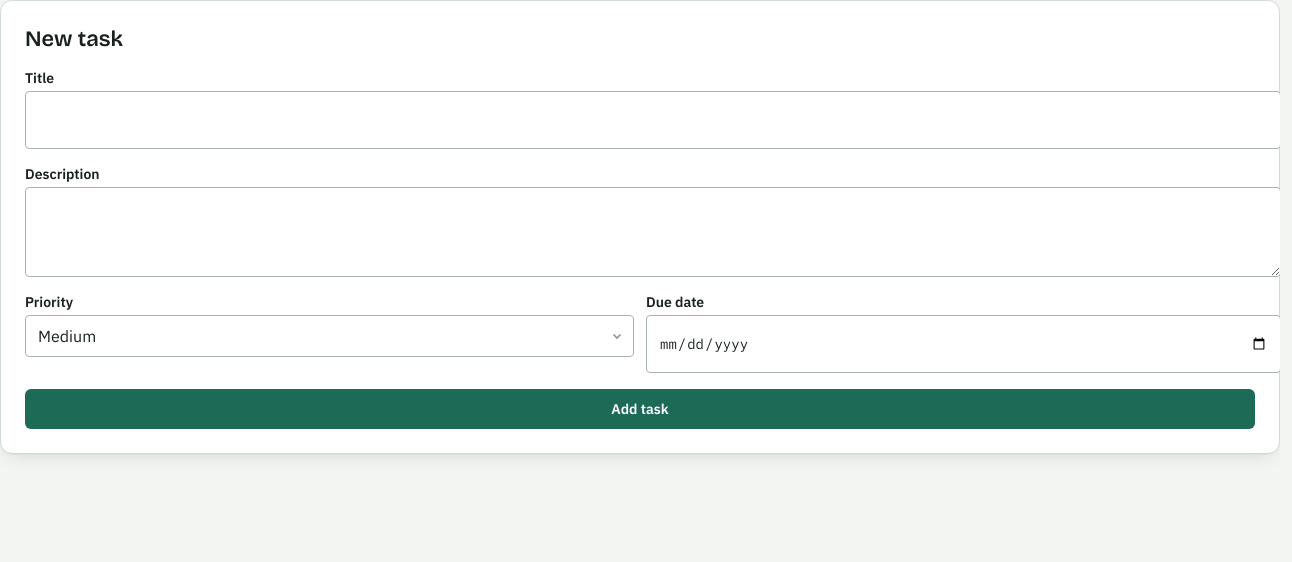
Test: TaskForm › surfaces server-side errors
Type "Task" into the field labelled "Title" at (652, 120), box [25, 91, 1280, 149]
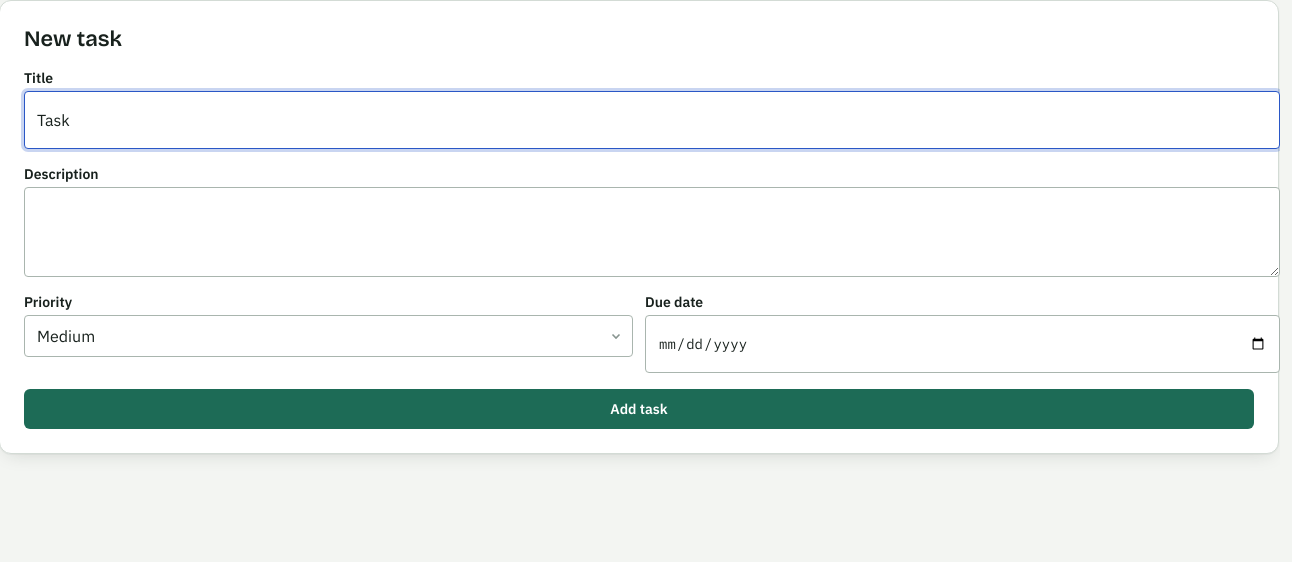
Click the button "Add task" at (639, 409), box [24, 389, 1254, 429]
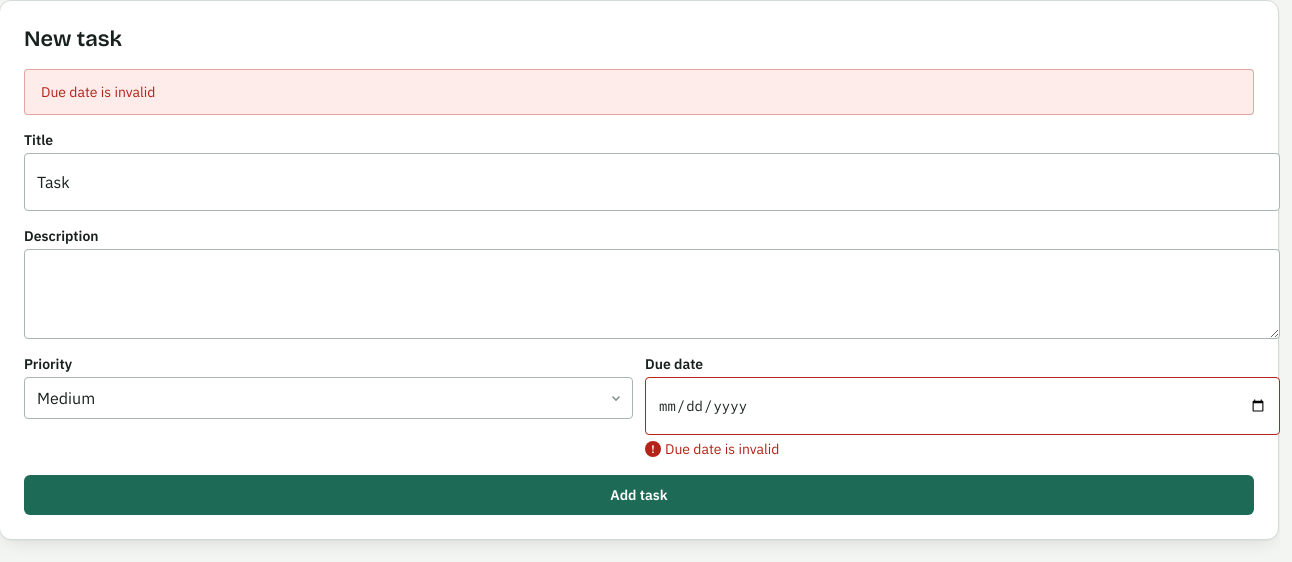
Now the message reads "Due date is invalid", box [41, 83, 155, 101]
